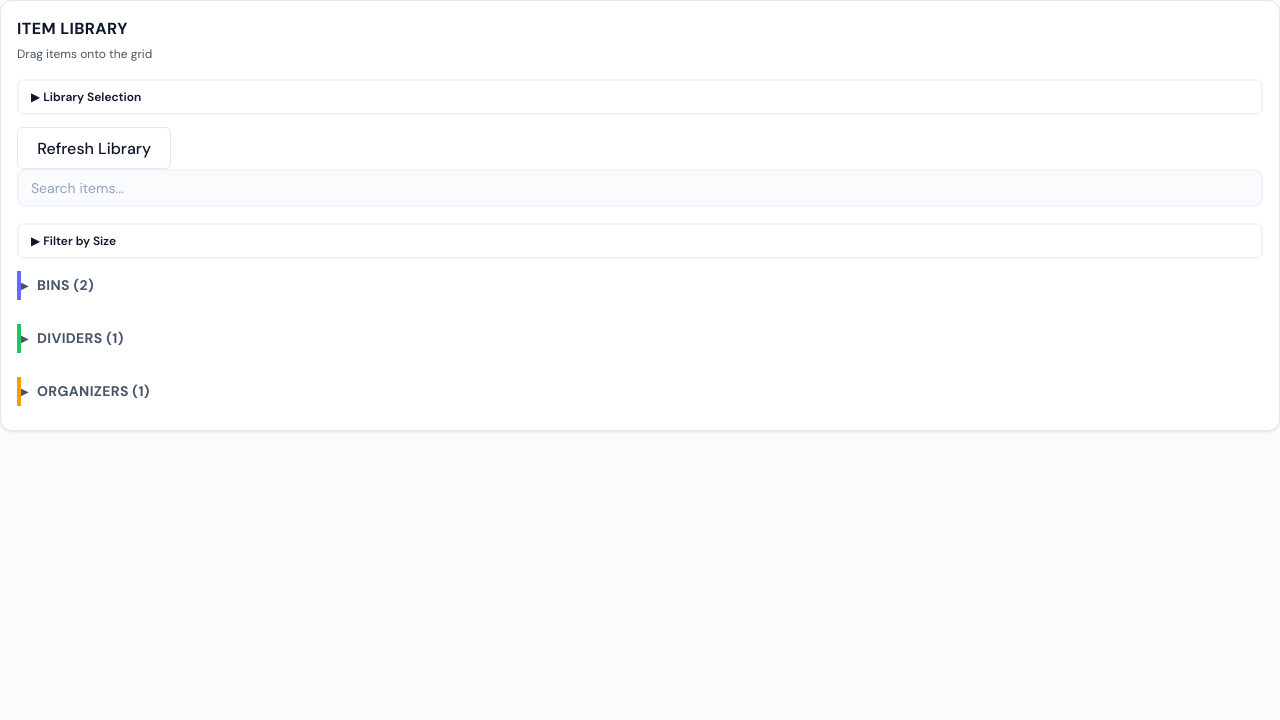
Test: ItemLibrary › Dimension Filtering › should show filters when toggle button is clicked
The width and height of the screenshot is (1280, 720).
Click the button "▶ Filter by Size": click(78, 241) [17,223,1263,259]
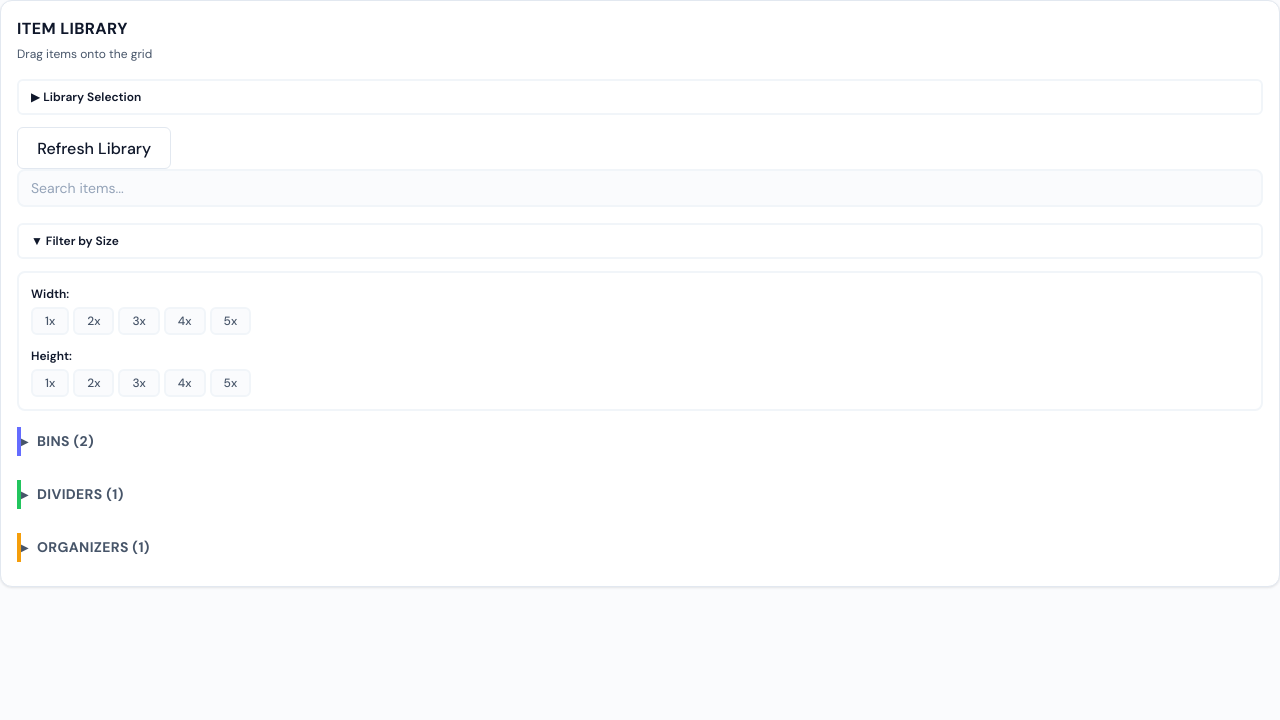
Result: the number of buttons "1x" is 2 at [31,307,69,335]; [31,369,69,397]
